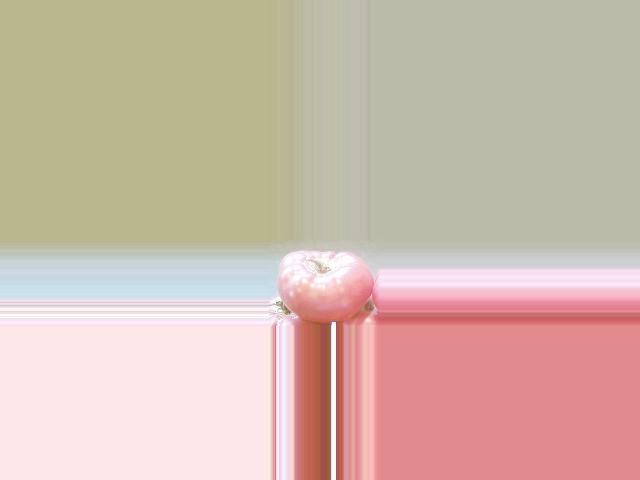tomato: (277, 250, 375, 322)
